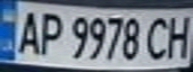7: (103, 14, 127, 62)
8: (121, 14, 145, 62)
9: (63, 11, 90, 60), (84, 12, 109, 61)
A: (12, 7, 45, 55)
C: (142, 14, 175, 61)
H: (160, 11, 193, 60)
P: (33, 8, 66, 56)
